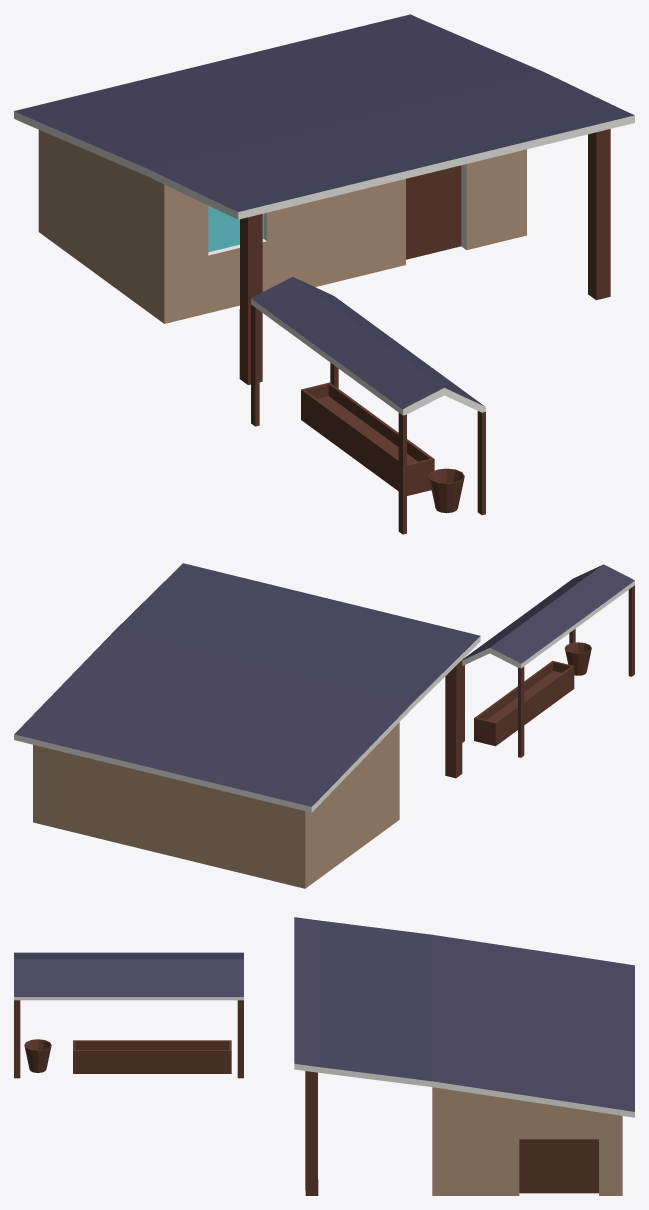
Rendered from Farmi_Possula.fbx.
3 views of the same model, one above another, from view 1: azimuth 30°, elevation 25°; view 2: azimuth 150°, elevation 25°; view 3: azimuth 270°, elevation 25° (orthographic). The views are drawn at different scales.
Visible parts, largest first — view 1: Possula; view 2: Possula; view 3: Possula.
Part boxes in pixels (box(x1,y1,x2,y2)): Possula: box(14, 14, 634, 534); Possula: box(14, 563, 634, 888); Possula: box(14, 917, 634, 1195).
Bounding box in the file's own units: 576 × 241 × 979.
